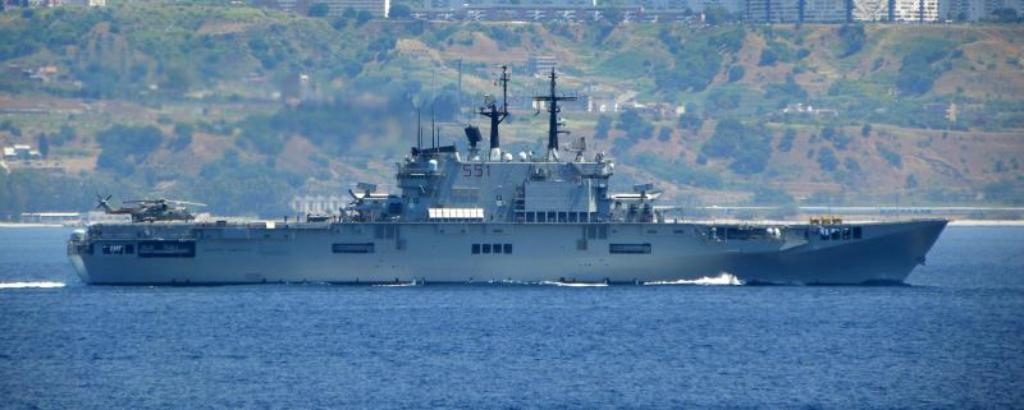Warship: (62, 59, 950, 291)
